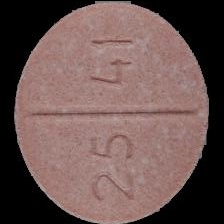64725-2957: (0, 0, 224, 224)
